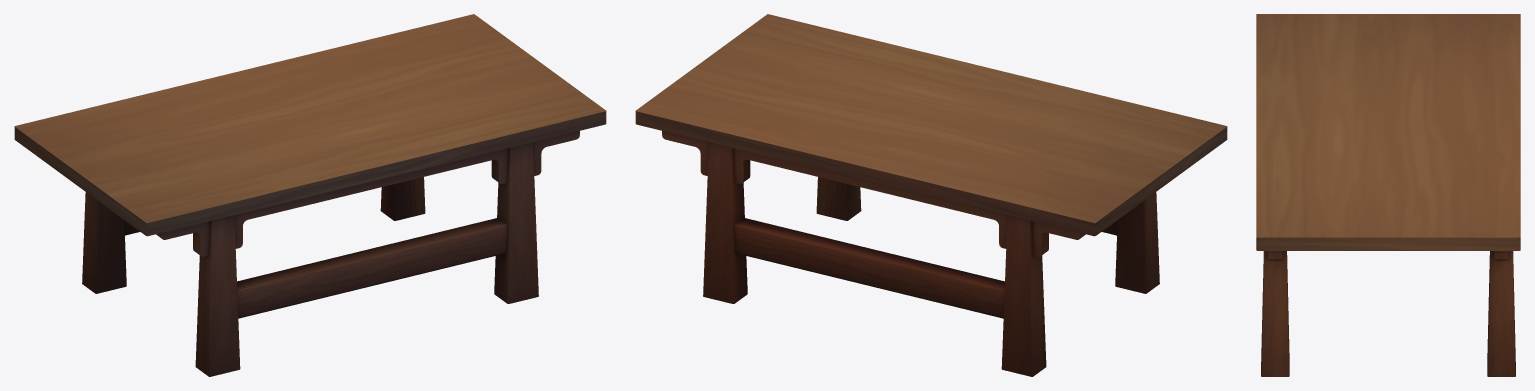
File: Table game.glb
3 renders of one model, left to right at view 1: azimuth 30°, elevation 25°; view 2: azimuth 150°, elevation 25°; view 3: azimuth 270°, elevation 25°, orthographic.
Visible parts, largest first — view 1: Table.002; view 2: Table.002; view 3: Table.002.
Boxes of the visible parts, left/top/right/bottom form: Table.002: left=14, top=14, right=606, bottom=376; Table.002: left=635, top=14, right=1227, bottom=376; Table.002: left=1256, top=14, right=1520, bottom=376.
Size of the model in its own units: 2.2 by 0.7844 by 1.1.
1 material, 1 textured.
